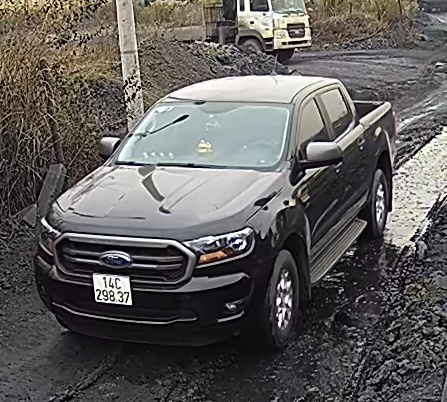vehicle plate: (92, 269, 130, 305)
